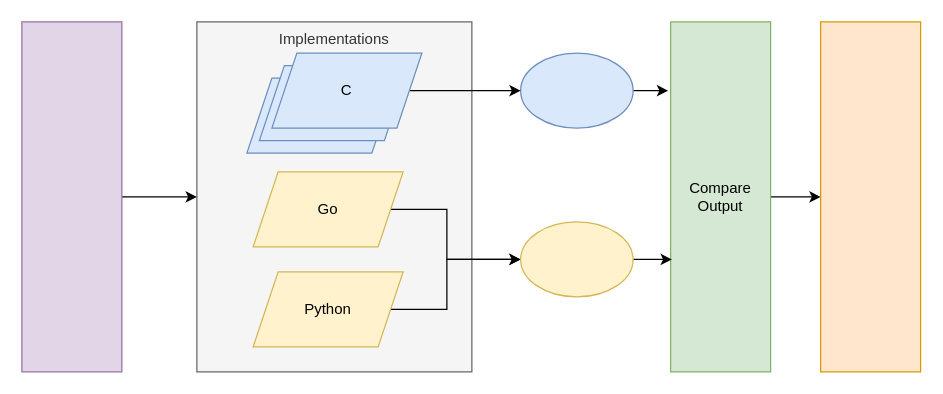
This 943x394 diagram has some shape labels left out. Here are the shapes that lost their labels. From the top down, the centre of each, then its label:
[576,90]: Optimized Output
[71,196]: Generate Input
[870,196]: Measure
[576,259]: Golden Model
